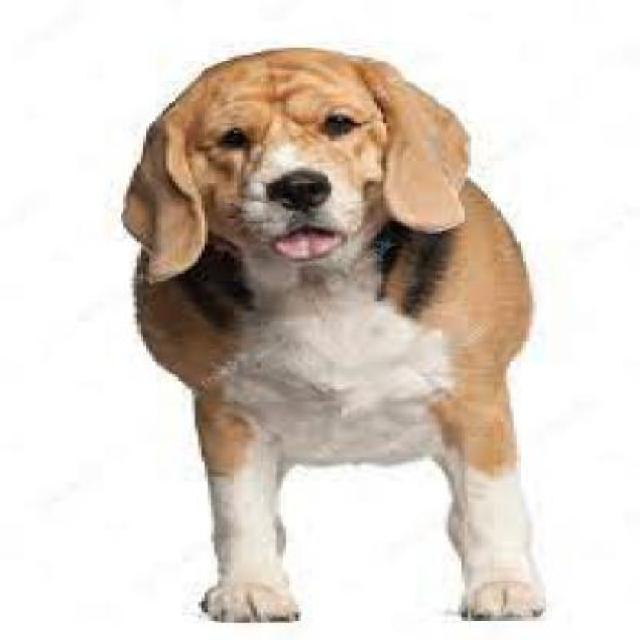Dog: (117, 43, 552, 623)
